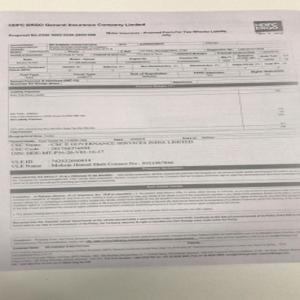image: (252, 18, 284, 36)
table: (8, 87, 300, 139), (10, 41, 292, 85)
text: (9, 137, 199, 166), (12, 169, 300, 184)
